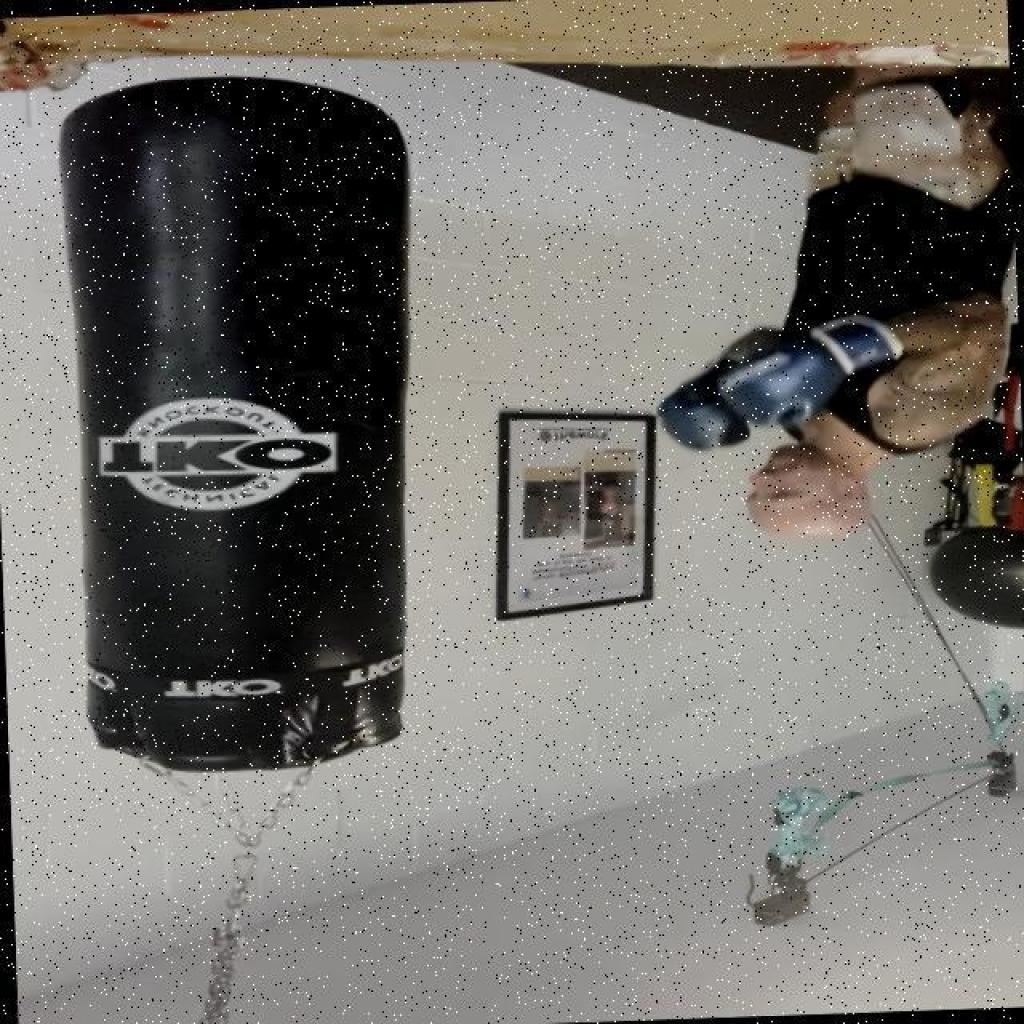bag: (38, 75, 477, 778)
no punch: (622, 278, 1024, 550)
